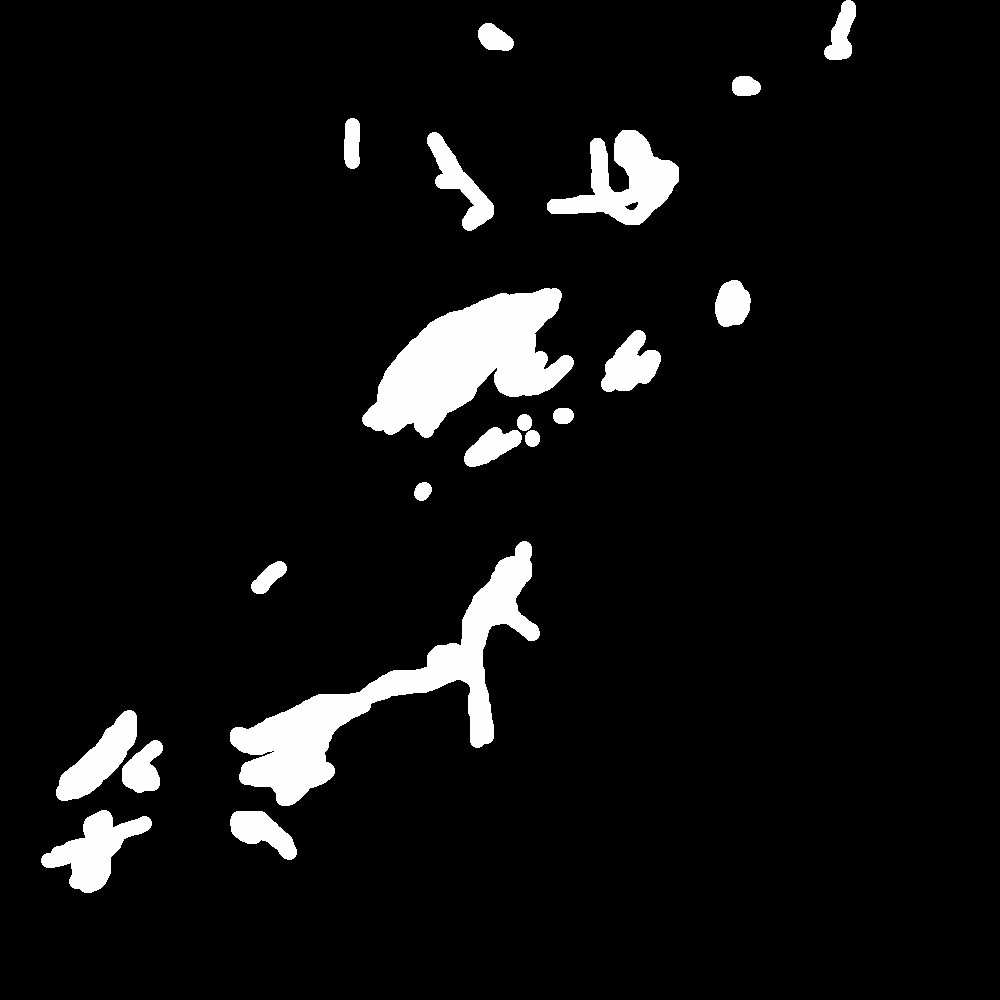illegal: (216, 543, 546, 857), (366, 277, 579, 464), (56, 668, 183, 904), (414, 131, 681, 233), (602, 331, 658, 403), (819, 1, 862, 68), (724, 266, 762, 320), (398, 476, 467, 502), (477, 20, 525, 51), (540, 946, 585, 975), (736, 68, 771, 97)
